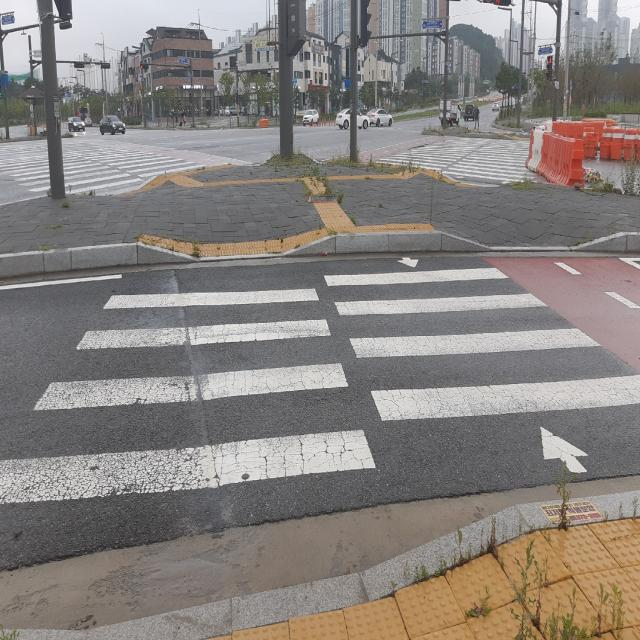횡단보도: (1, 252, 638, 510), (14, 140, 168, 177), (422, 138, 515, 182)
